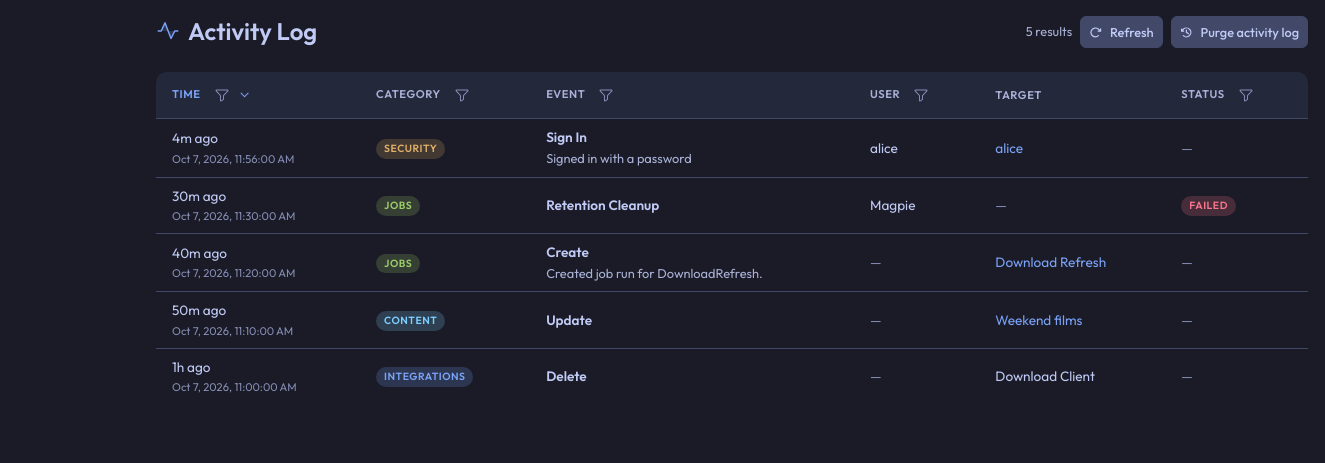
Test case: ActivityLogPage › WritesTheEventTextToTheUrl_WhenTheEventFilterIsApplied
Step 1. Click the button named "Filter by Event" → (606, 95), box x1=593 y1=82 x2=619 y2=108
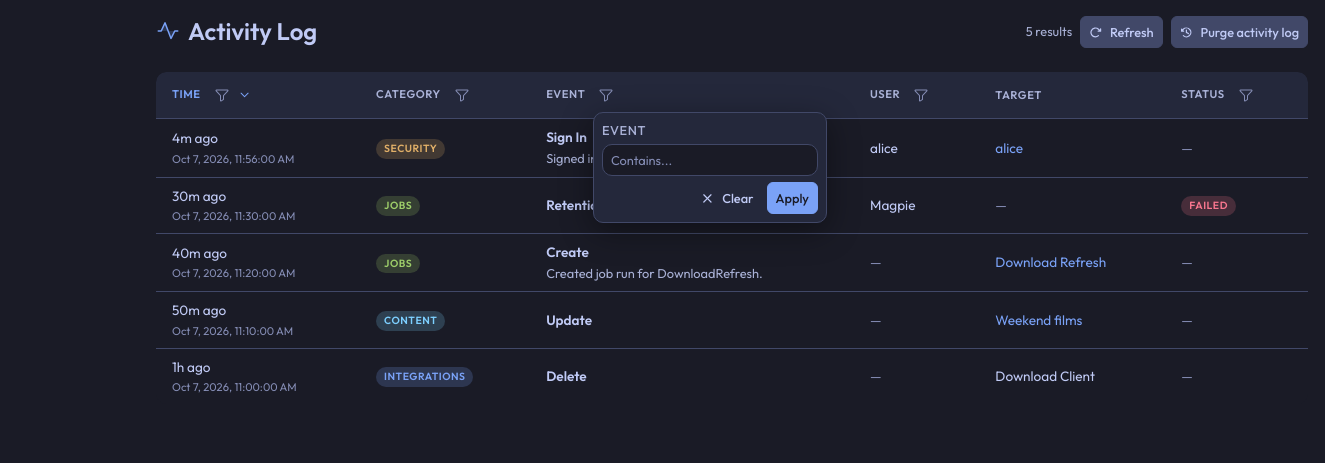
Step 2. Type "password" into the field labelled "Event" → (710, 160), box x1=603 y1=147 x2=817 y2=174
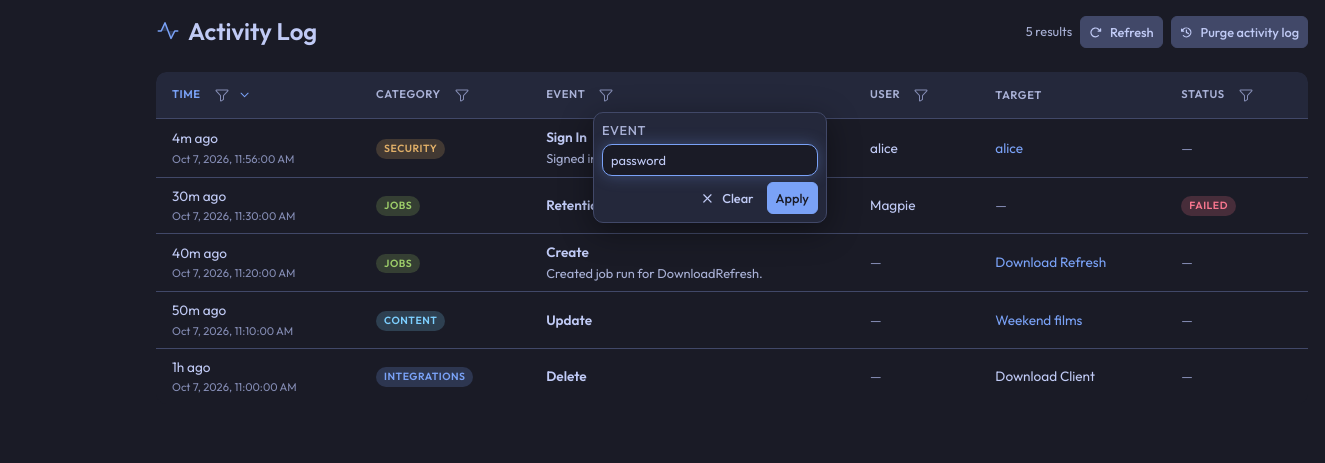
Step 3. Click the button "Apply" → (792, 198), box x1=767 y1=182 x2=818 y2=214
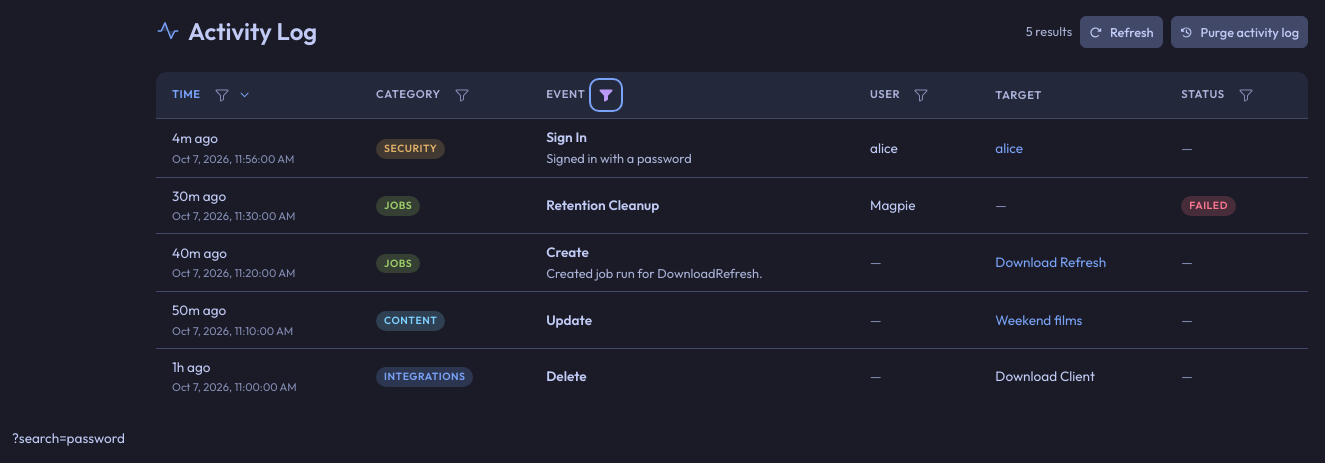
Now the text with test id "activity-log-page__location-search" reads "?search=password", box x1=12 y1=429 x2=125 y2=447
